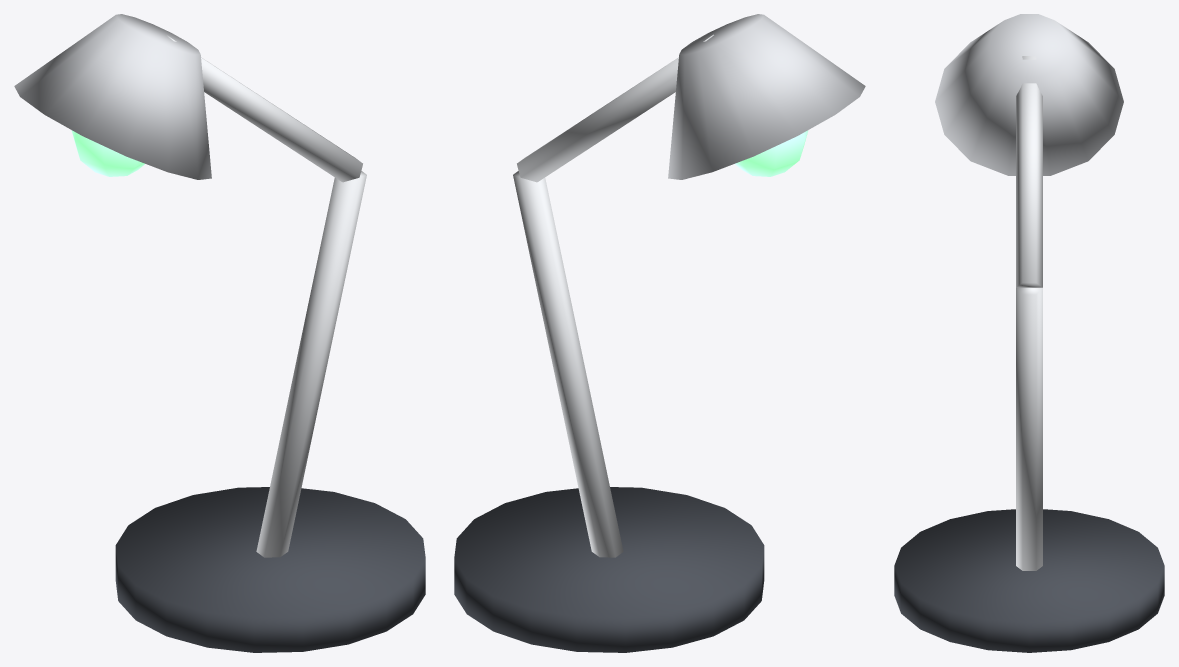
File: table_lamp_desk_arm.glb
3 views of the same model, side by side, from view 1: azimuth 30°, elevation 25°; view 2: azimuth 150°, elevation 25°; view 3: azimuth 270°, elevation 25° (orthographic). The views are drawn at different scales.
Visible parts, largest first — view 1: GD_table_lamp_desk_arm__m0, GD_table_lamp_desk_arm__m2, GD_table_lamp_desk_arm__m1, GD_table_lamp_desk_arm__m3; view 2: GD_table_lamp_desk_arm__m0, GD_table_lamp_desk_arm__m2, GD_table_lamp_desk_arm__m1, GD_table_lamp_desk_arm__m3; view 3: GD_table_lamp_desk_arm__m0, GD_table_lamp_desk_arm__m2, GD_table_lamp_desk_arm__m1.
Boxes of the visible parts, box(x1,y1,x2,y2) form: GD_table_lamp_desk_arm__m0: box(115, 487, 425, 652); GD_table_lamp_desk_arm__m2: box(14, 14, 211, 179); GD_table_lamp_desk_arm__m1: box(166, 34, 366, 557); GD_table_lamp_desk_arm__m3: box(71, 130, 144, 176); GD_table_lamp_desk_arm__m0: box(454, 487, 764, 652); GD_table_lamp_desk_arm__m2: box(668, 14, 865, 179); GD_table_lamp_desk_arm__m1: box(513, 34, 713, 557); GD_table_lamp_desk_arm__m3: box(735, 130, 808, 176); GD_table_lamp_desk_arm__m0: box(894, 509, 1164, 652); GD_table_lamp_desk_arm__m2: box(935, 14, 1123, 175); GD_table_lamp_desk_arm__m1: box(1016, 56, 1042, 570).
Bounding box in the file's own units: 0.2767 × 0.4247 × 0.2.
